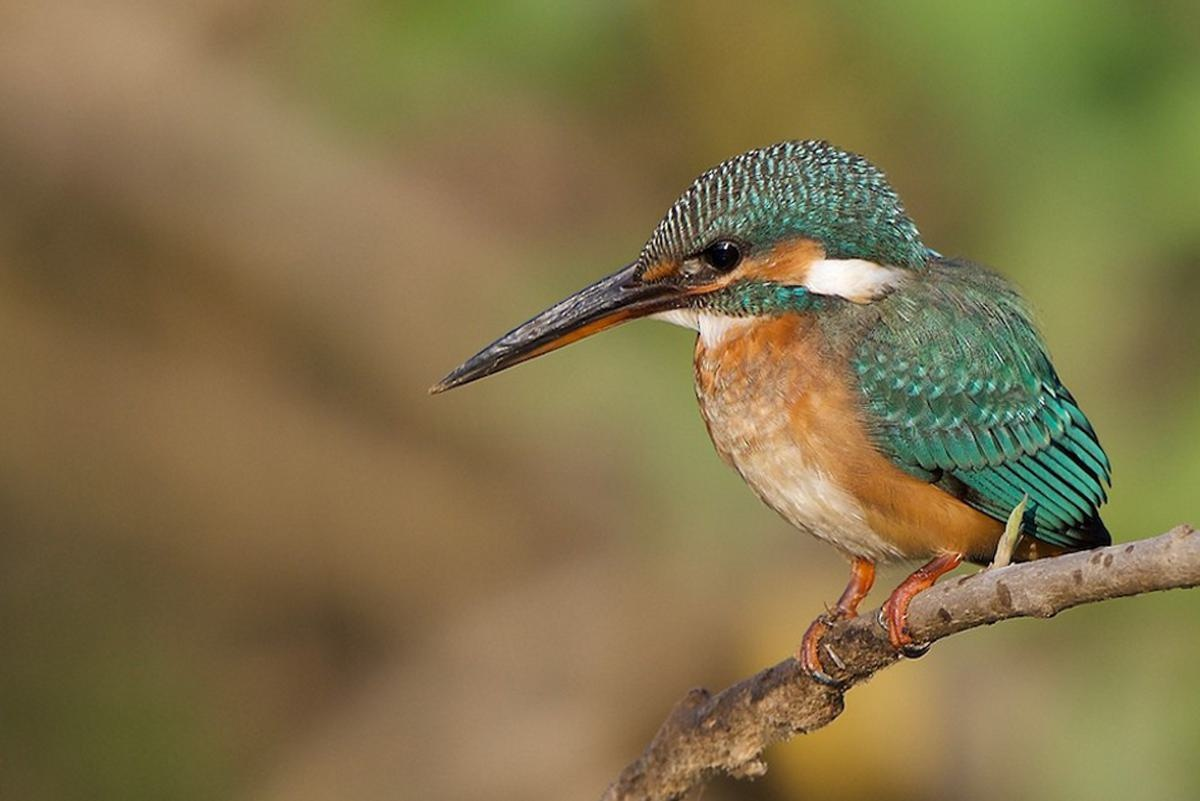kingfisher: (429, 119, 1156, 619)
